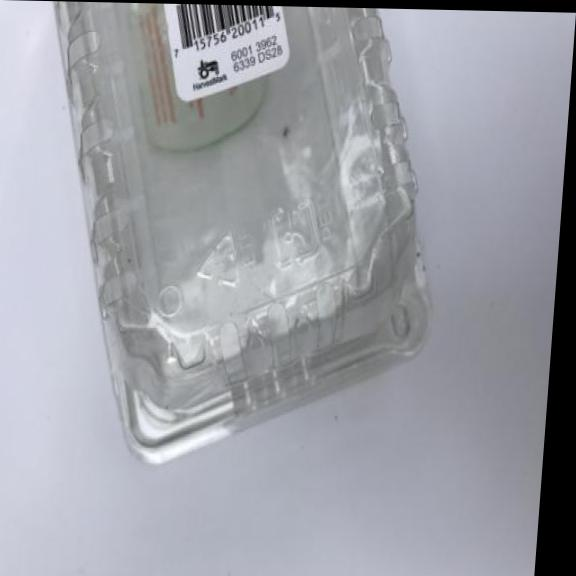Plastik: (12, 1, 459, 478)
